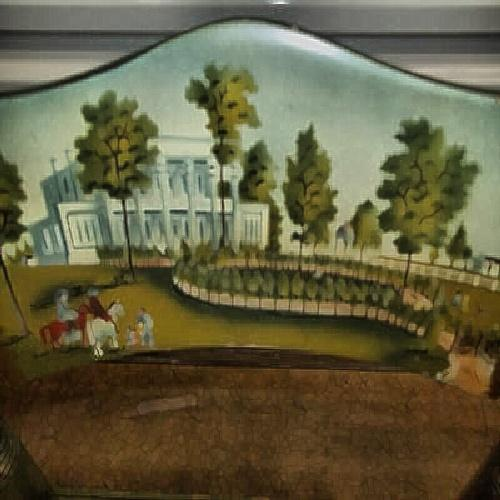chair: (20, 76, 489, 469)
